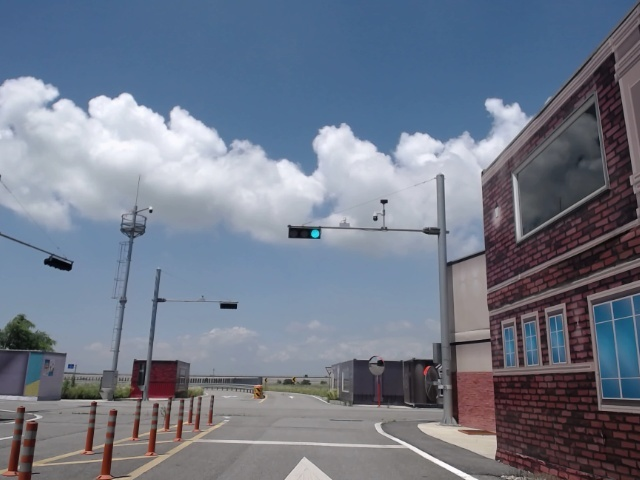green_3: (288, 226, 319, 239)
